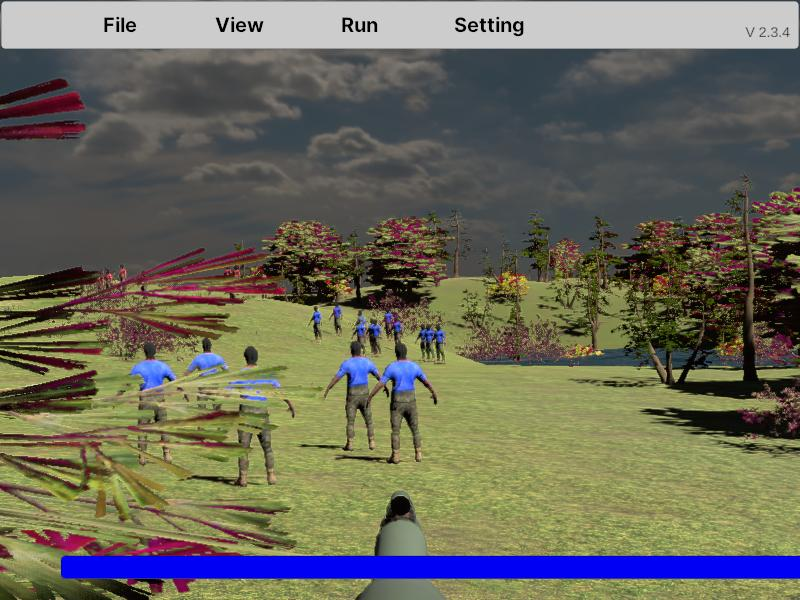Human: (216, 345, 295, 487), (115, 342, 189, 466), (366, 344, 438, 464), (323, 341, 390, 452)
